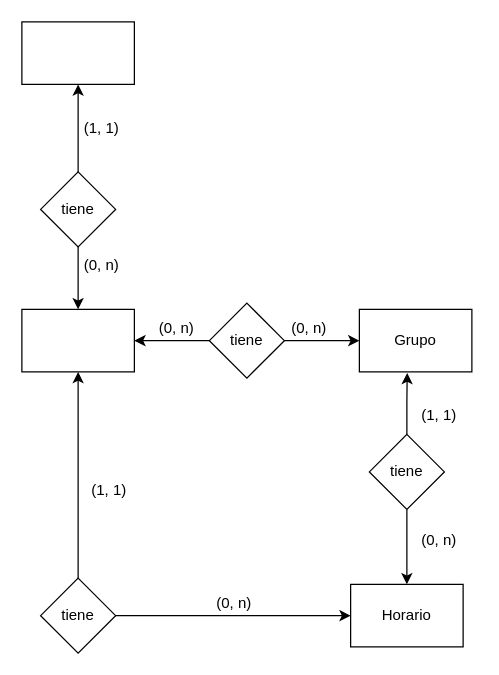
The diagram is 499 pixels wide and 675 high, and some of its shapes have lost their labels. The shapes that lost their labels are listed below. From the top down, each one's centre as x and y in pixels, then its label:
pixel 77 52: Carrera
pixel 77 340: Materias
